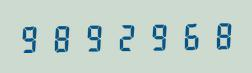eight: (203, 18, 233, 51), (48, 21, 78, 53)
nine: (17, 21, 47, 54), (79, 20, 109, 53), (141, 19, 171, 52)
six: (172, 19, 202, 51)
two: (110, 20, 140, 52)
